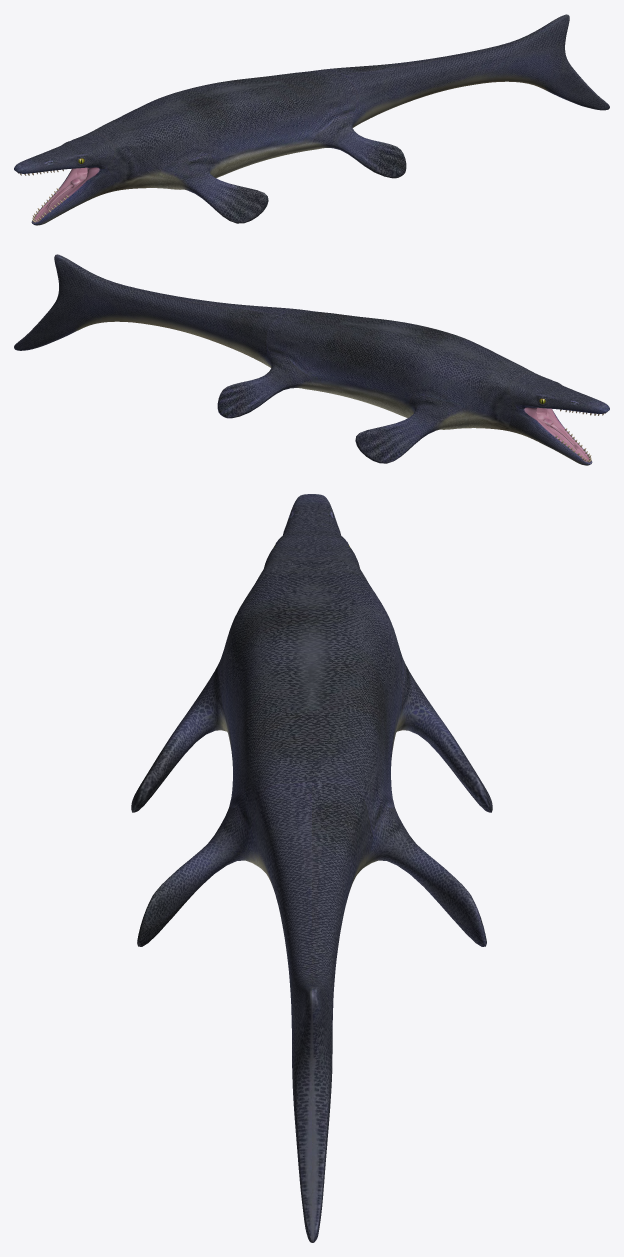
The model's file is mosasaurus.glb.
3 renders of one model, top to bottom at view 1: azimuth 30°, elevation 25°; view 2: azimuth 150°, elevation 25°; view 3: azimuth 270°, elevation 25°, orthographic. The views are drawn at different scales.
Visible parts, largest first — view 1: Animal; view 2: Animal; view 3: Animal.
Part boxes in pixels (x1,y1,x2,y2): Animal: [14, 14, 609, 225]; Animal: [14, 254, 609, 465]; Animal: [131, 494, 492, 1242].
Bounding box in the file's own units: 3.2 × 0.5807 × 0.8421.
2 materials, 2 textured.
